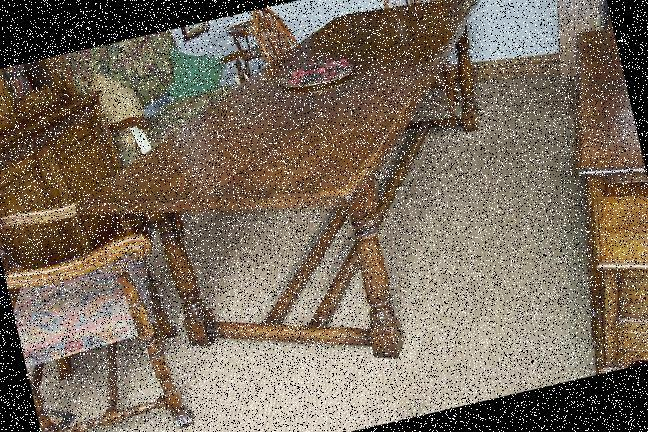Mesa: (47, 0, 549, 417)
Silla: (0, 151, 218, 431), (244, 0, 387, 178), (352, 0, 484, 137)
